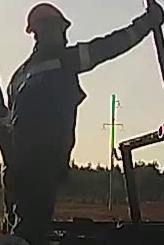gloves: (131, 2, 164, 37)
helmet: (25, 1, 73, 34)
vest: (9, 43, 90, 182)
